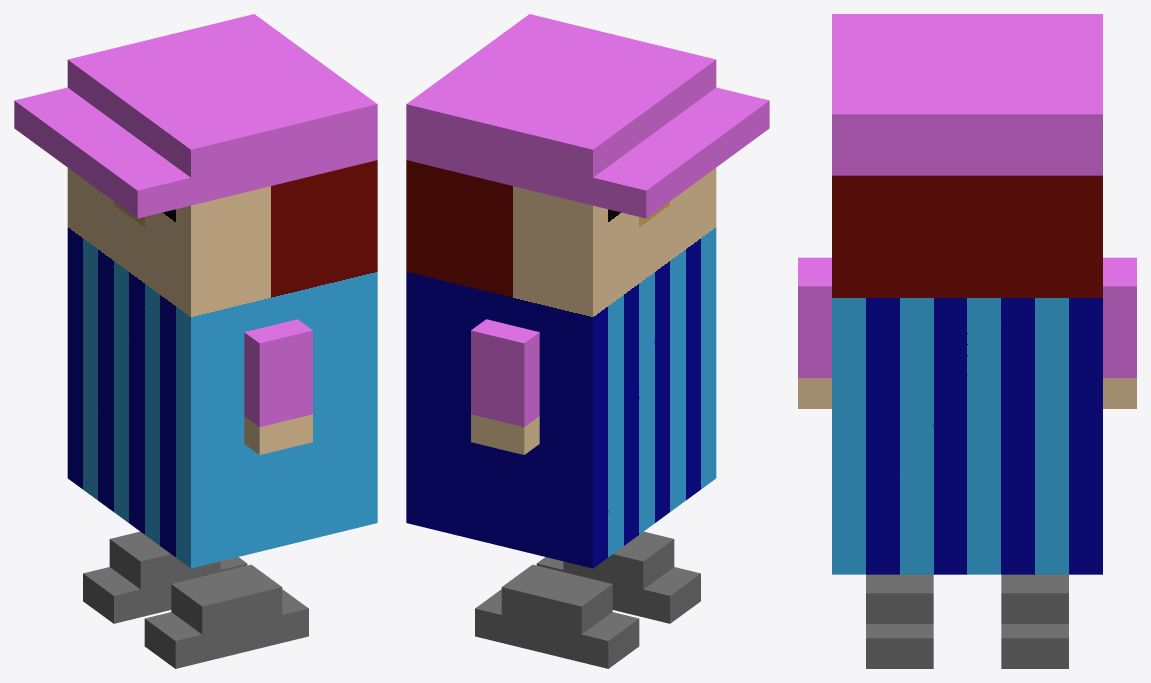
File: Player_14.fbx
3 renders of one model, left to right at view 1: azimuth 30°, elevation 25°; view 2: azimuth 150°, elevation 25°; view 3: azimuth 270°, elevation 25°, orthographic. The views are drawn at different scales.
Parts seen in each view (by area): view 1: Main, LeftFoot, LeftHand, RightFoot; view 2: Main, RightFoot, RightHand, LeftFoot; view 3: Main, LeftFoot, RightFoot, RightHand, LeftHand.
Part boxes in pixels (x1=…): Main: x1=14, y1=14, x2=377, y2=568; LeftFoot: x1=144, y1=564, x2=308, y2=668; LeftHand: x1=244, y1=319, x2=312, y2=454; RightFoot: x1=83, y1=531, x2=247, y2=623; Main: x1=406, y1=14, x2=769, y2=568; RightFoot: x1=475, y1=564, x2=639, y2=668; RightHand: x1=471, y1=319, x2=539, y2=454; LeftFoot: x1=536, y1=531, x2=700, y2=623; Main: x1=832, y1=14, x2=1102, y2=574; LeftFoot: x1=866, y1=574, x2=933, y2=668; RightFoot: x1=1001, y1=574, x2=1068, y2=668; RightHand: x1=1103, y1=257, x2=1136, y2=408; LeftHand: x1=798, y1=257, x2=831, y2=408.
Size of the model in its own units: 9 by 19 by 10.
Materials: 1 (1 with a texture image).
